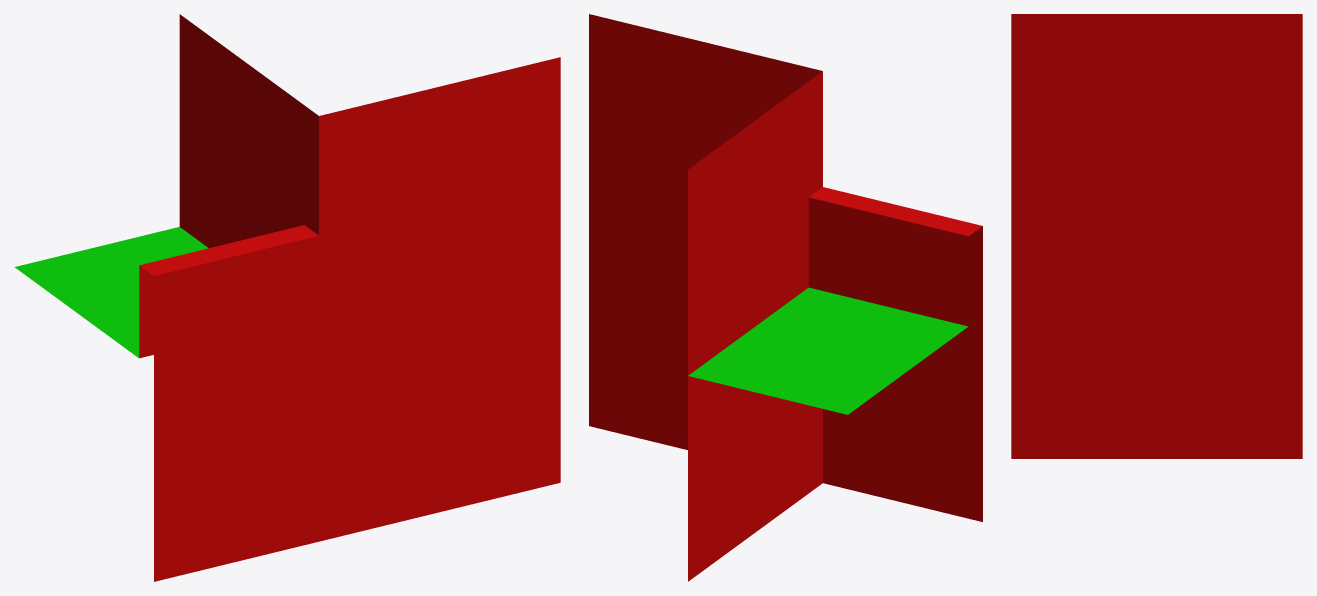
3 views of the same model, side by side, from view 1: azimuth 30°, elevation 25°; view 2: azimuth 150°, elevation 25°; view 3: azimuth 270°, elevation 25° (orthographic). The views are drawn at different scales.
Parts seen in each view (by area): view 1: None_A_E_A_E_W_E_E_E_None; view 2: None_A_E_A_E_W_E_E_E_None; view 3: None_A_E_A_E_W_E_E_E_None.
Boxes of the visible parts, x1,y1,x2,y2 form: None_A_E_A_E_W_E_E_E_None: (14,14,560,581); None_A_E_A_E_W_E_E_E_None: (589,14,982,581); None_A_E_A_E_W_E_E_E_None: (1011,14,1302,458).
Bounding box in the file's own units: 100 × 100 × 59.38.
